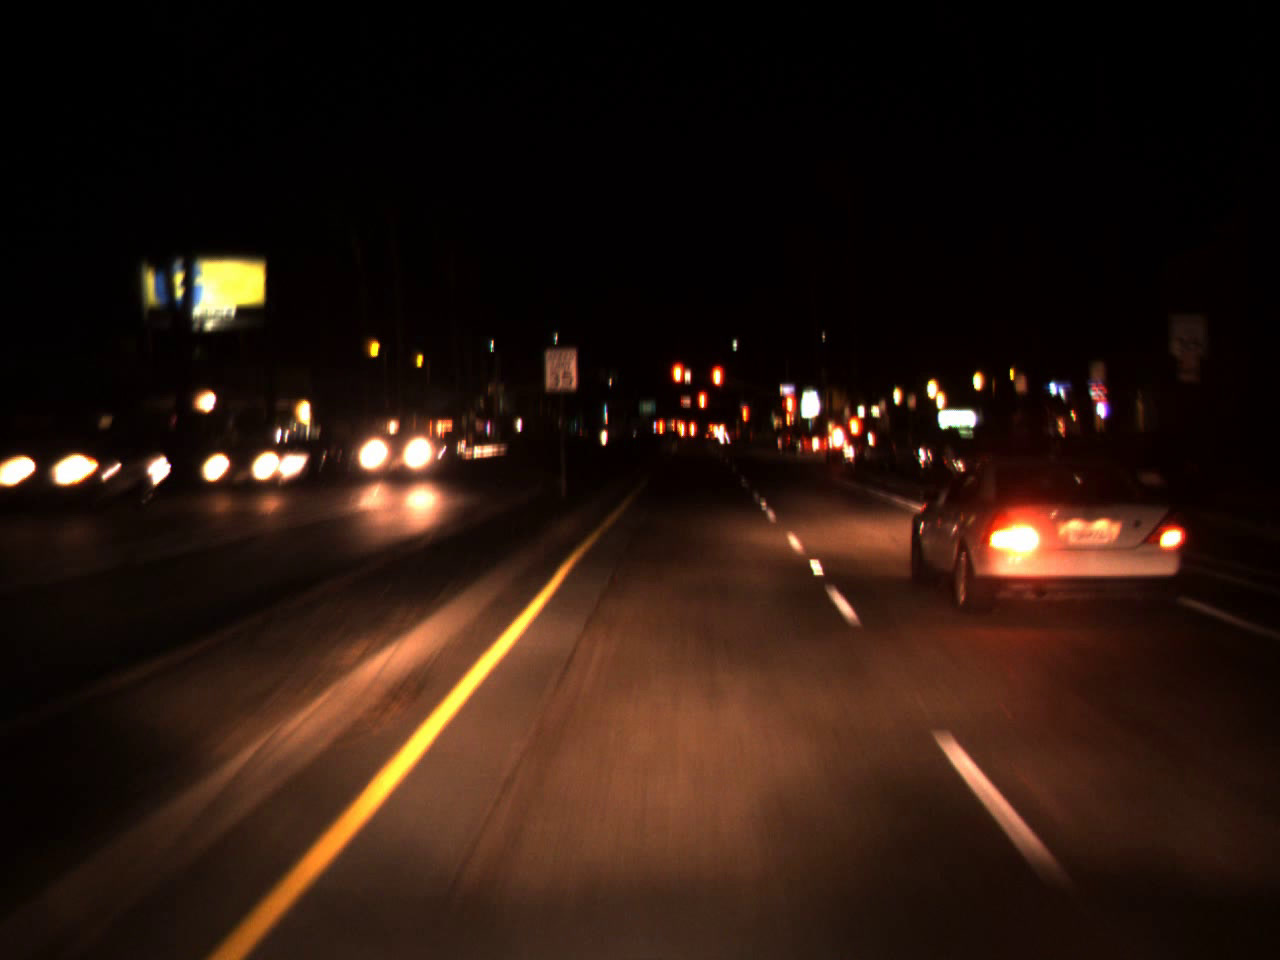stop: (670, 359, 686, 407), (710, 361, 725, 412), (779, 389, 798, 424), (695, 388, 708, 431), (741, 402, 748, 442)
